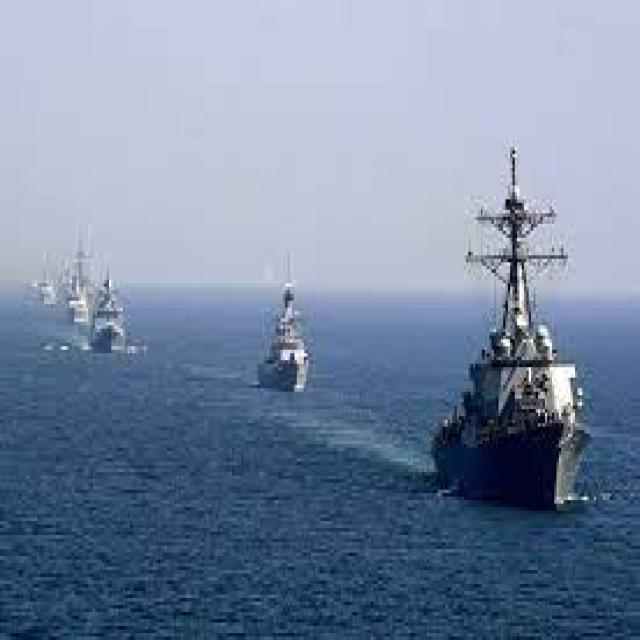navalvessels: (424, 156, 588, 504), (246, 270, 316, 399), (86, 269, 133, 357), (56, 239, 91, 324)
